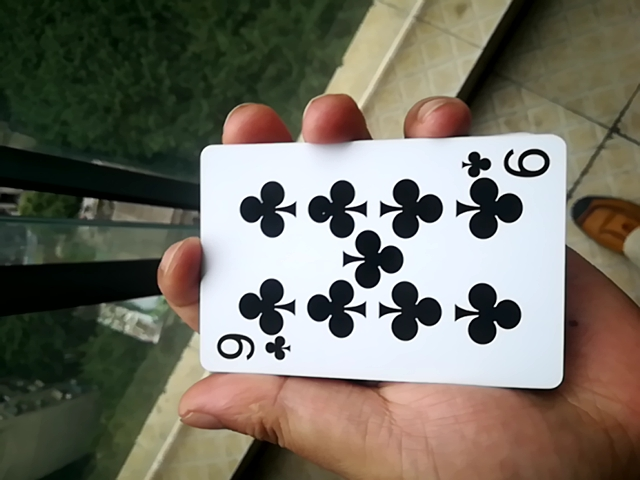mh 9: (181, 129, 562, 386)
